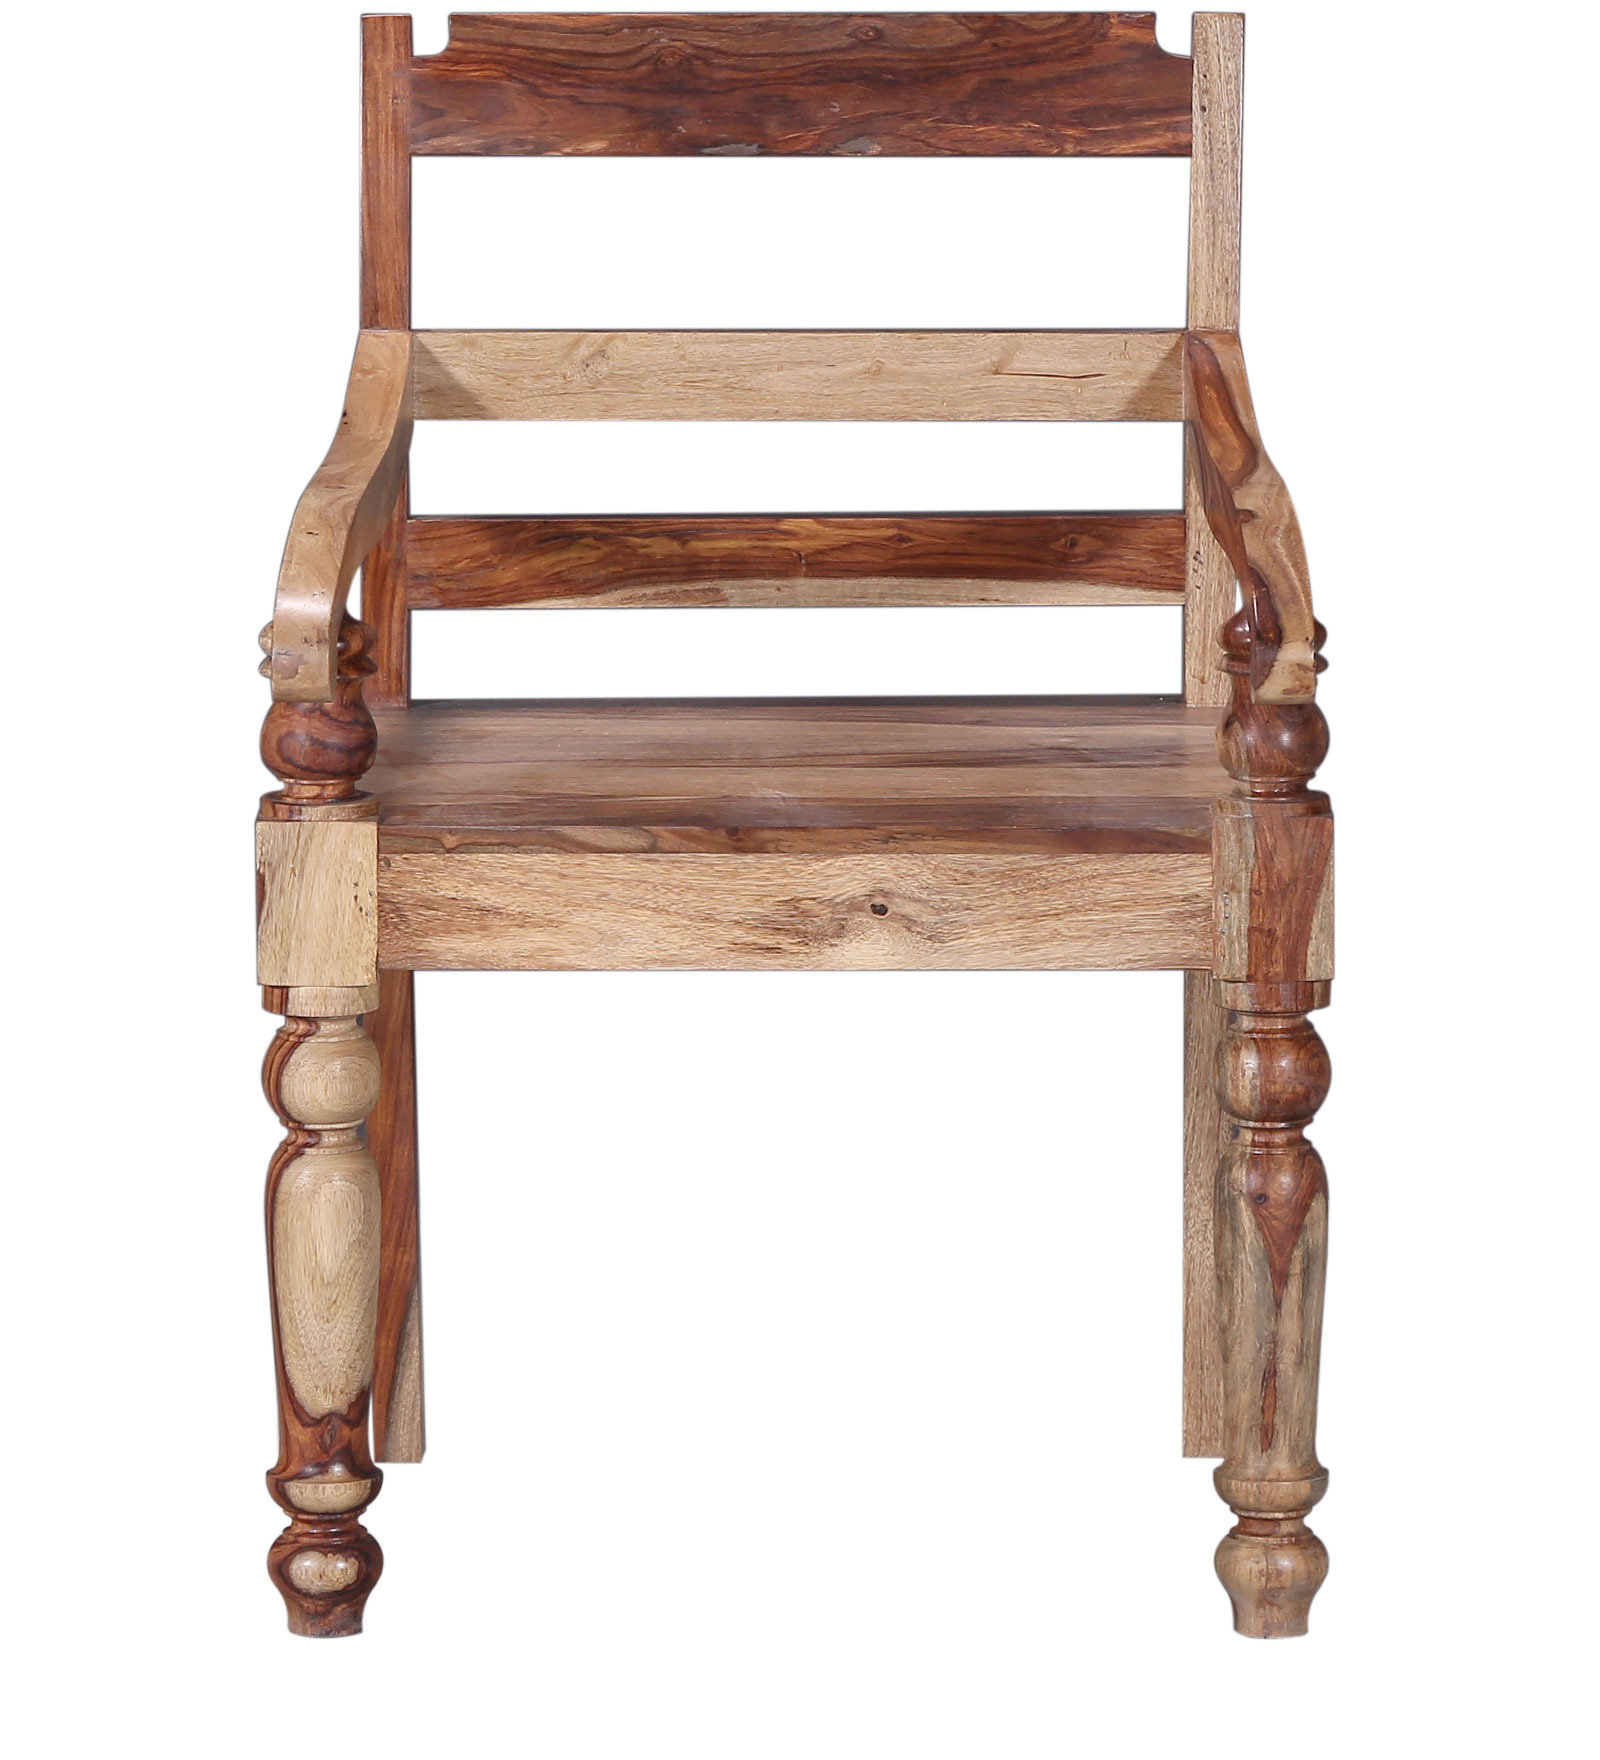Maud Arm Chair in Natural Sheesham Finish by Amberville: (248, 2, 1353, 1645)
